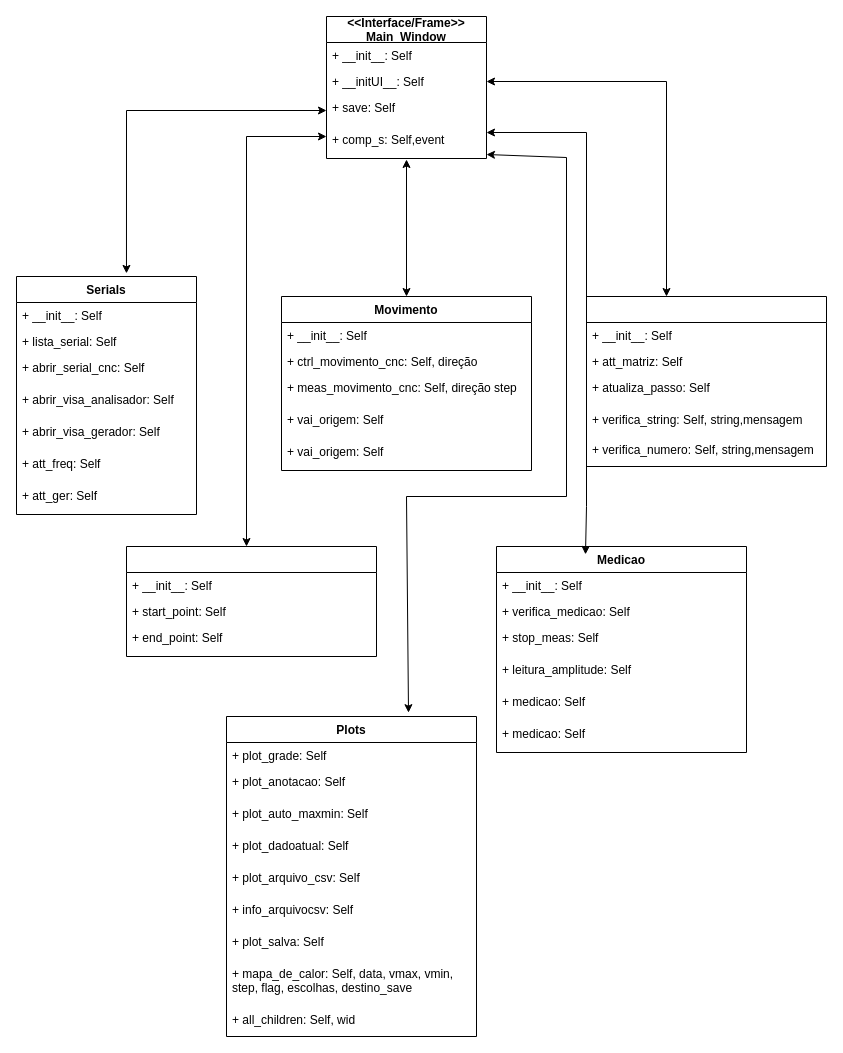
This 843x1053 diagram has some shape labels left out. Here are the shapes that lost their labels. From the top down, the box of each, then its label:
(586, 296, 826, 466): Tamanho_da_Matriz
(126, 546, 376, 656): Pontos
